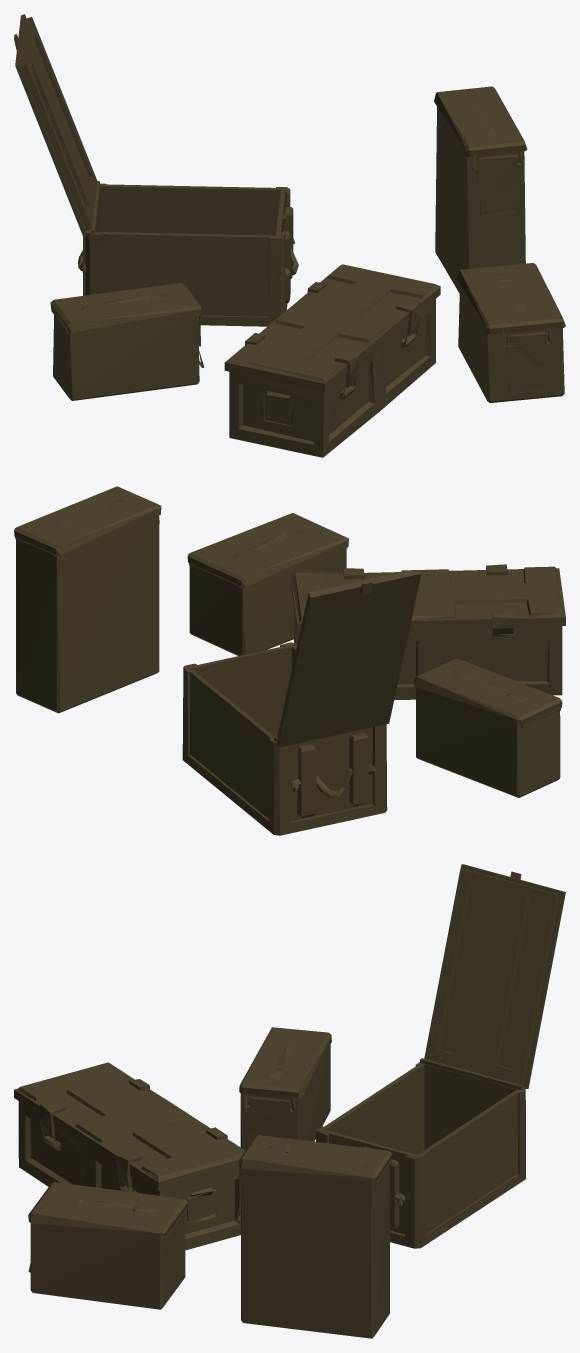
Rendered from ammo-stack.lod0.glb.
3 renders of one model, top to bottom at view 1: azimuth 30°, elevation 25°; view 2: azimuth 150°, elevation 25°; view 3: azimuth 270°, elevation 25°, orthographic. The views are drawn at different scales.
Parts seen in each view (by area): view 1: Object_4; view 2: Object_4; view 3: Object_4.
Boxes of the visible parts, x1,y1,x2,y2 form: Object_4: (14,14,565,457); Object_4: (14,486,565,835); Object_4: (14,864,565,1338).
Size of the model in its own units: 4.9 by 2.57 by 4.83.
